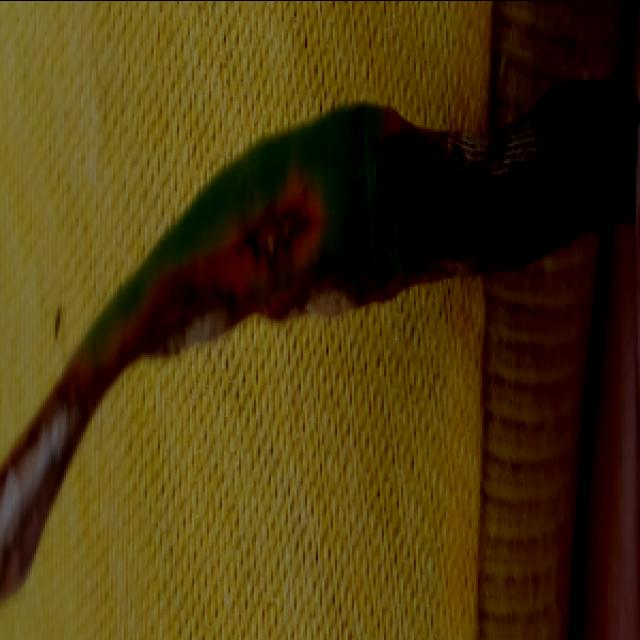Brown_Spot: (226, 192, 323, 268)
